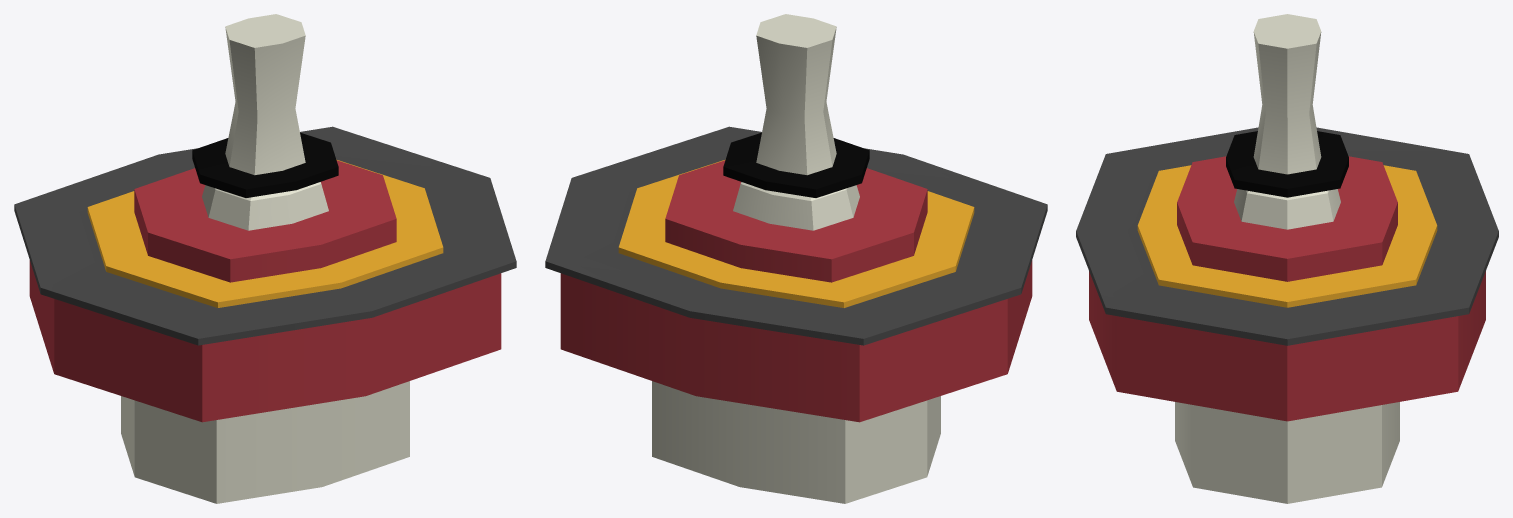
Rendered from Battery_Base.fbx.
3 renders of one model, left to right at view 1: azimuth 30°, elevation 25°; view 2: azimuth 150°, elevation 25°; view 3: azimuth 270°, elevation 25°, orthographic.
Parts seen in each view (by area): view 1: LowerBody; view 2: LowerBody; view 3: LowerBody.
Part boxes in pixels (box(x1,y1,x2,y2)): LowerBody: box(14, 14, 516, 503); LowerBody: box(545, 14, 1047, 503); LowerBody: box(1076, 14, 1498, 503).
Size of the model in its own units: 0.447 by 0.3937 by 0.3682.
